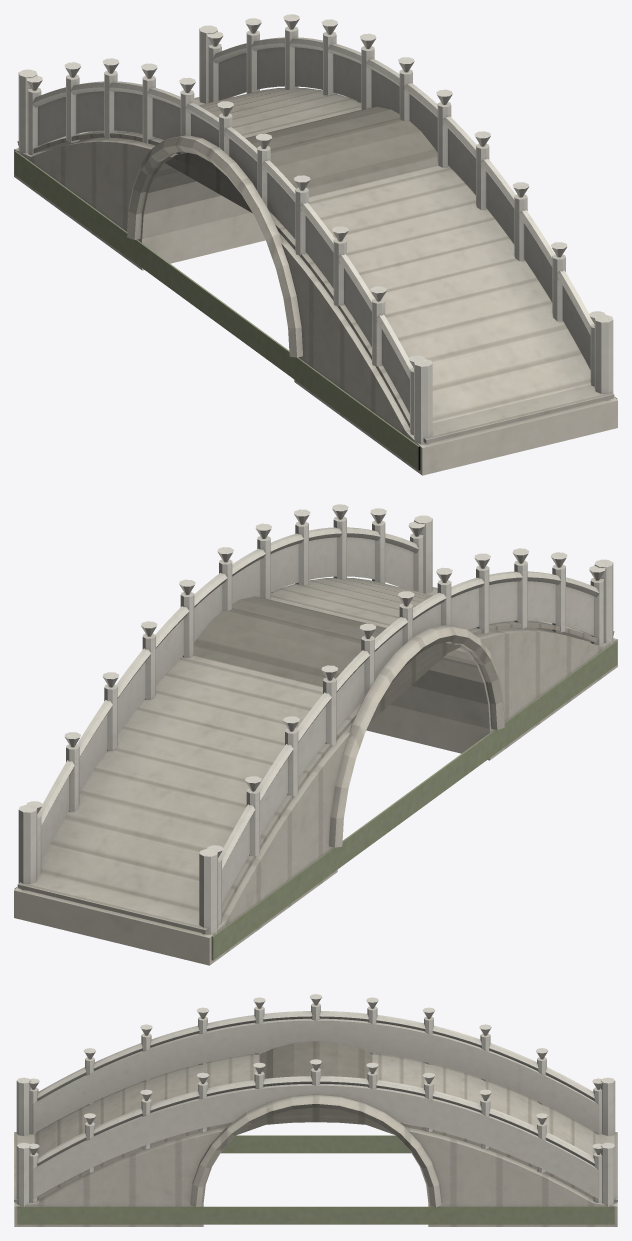
File: bridge_arch.glb
The picture shows the model from 3 angles, top to bottom: view 1: azimuth 30°, elevation 25°; view 2: azimuth 150°, elevation 25°; view 3: azimuth 270°, elevation 25°; orthographic projection. The views are drawn at different scales.
Visible parts, largest first — view 1: bridge_arch; view 2: bridge_arch; view 3: bridge_arch.
Boxes of the visible parts, x1,y1,x2,y2 form: bridge_arch: (14,14,617,475); bridge_arch: (14,504,617,965); bridge_arch: (14,994,617,1226).
Bounding box in the file's own units: 2.86 × 2.79 × 9.41.
Materials: 1 (1 with a texture image).
